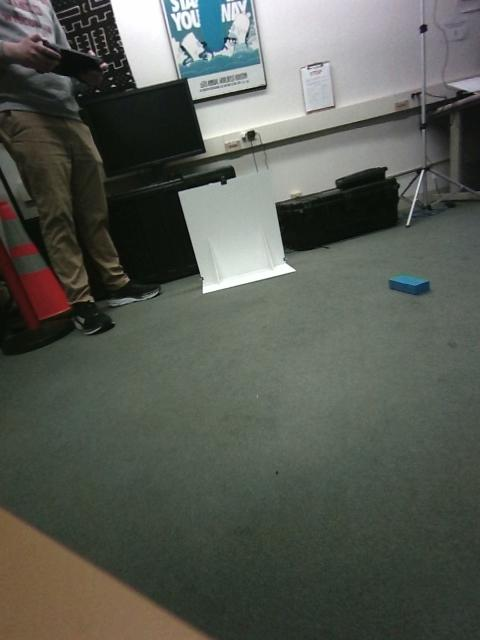block: (275, 295, 344, 347)
